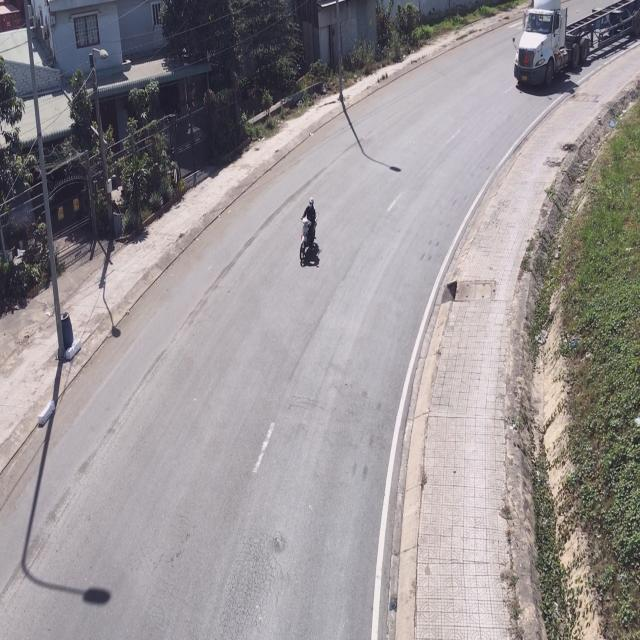motorbike: (296, 197, 319, 266)
truck: (512, 0, 636, 91)
